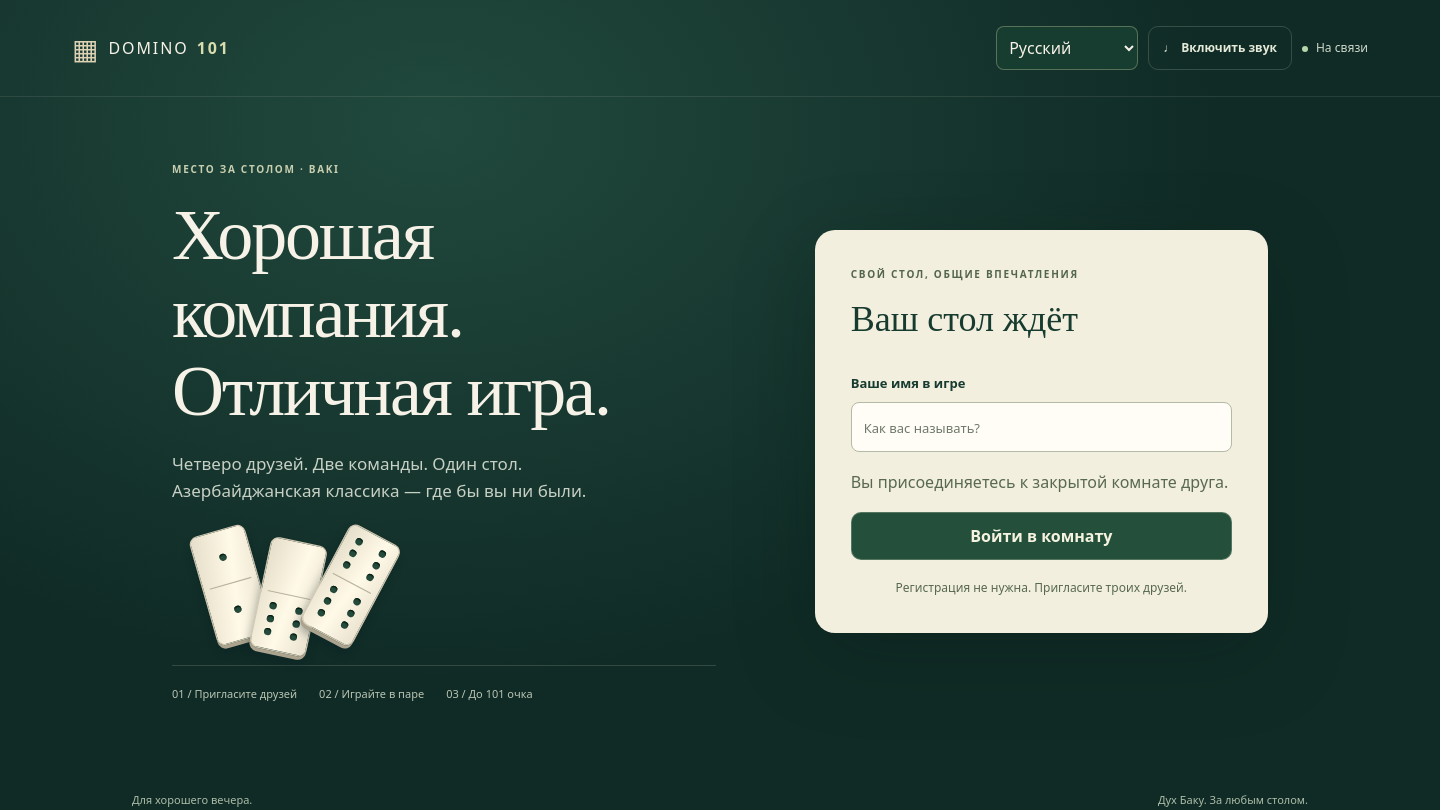
Test case: localization resources and persistence › renders ru entry, controls and server errors
expect the heading "Ваш стол ждёт" is shown: met, box [851,299,1078,339]
Type "Əli" into the field labelled "Ваше имя в игре" at (1041, 427), box [851,402,1232,452]
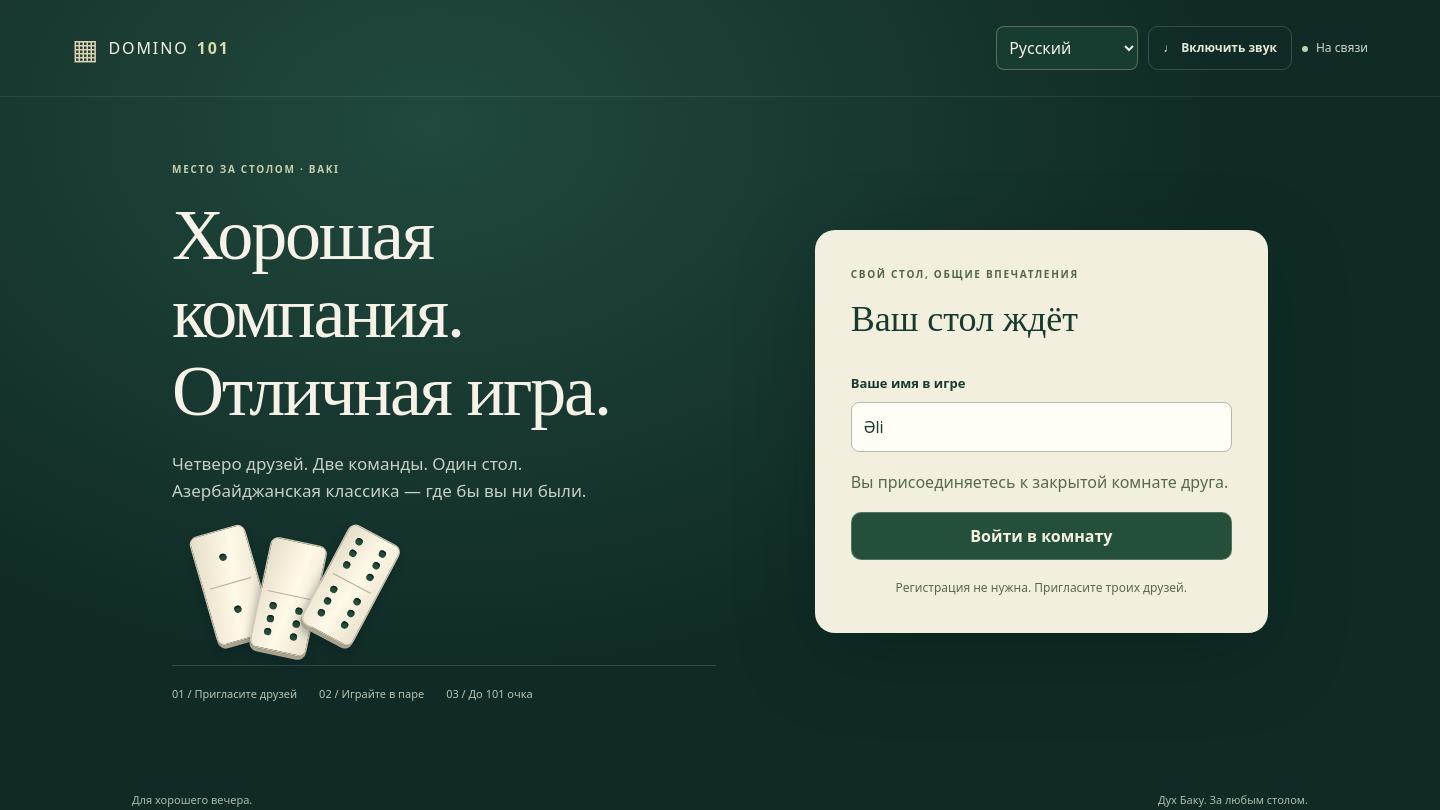
Click the button "Войти в комнату" at (1041, 536), box [851,512,1232,560]
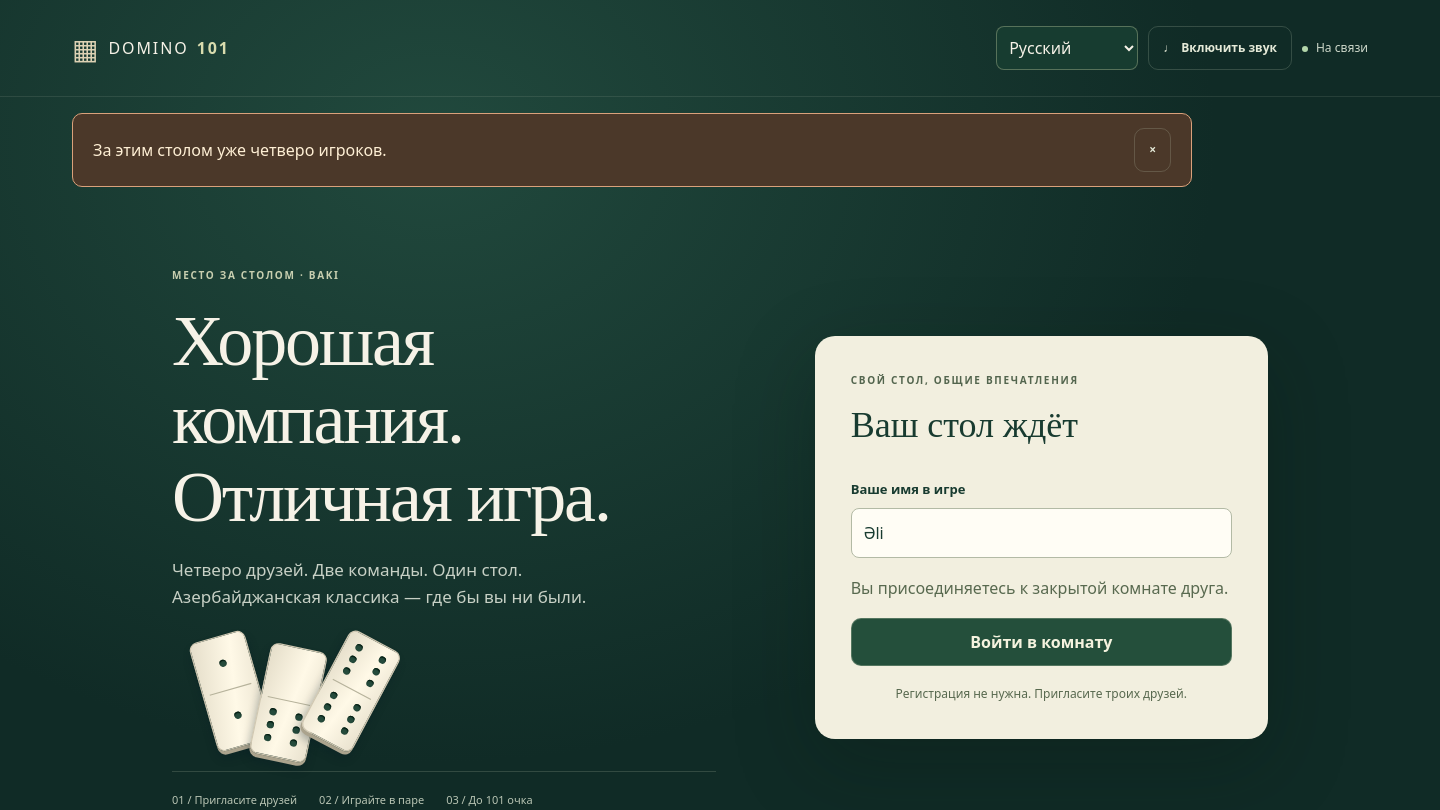
expect the message "За этим столом уже четверо игроков. ×" is shown: met, box [72,113,1192,187]
